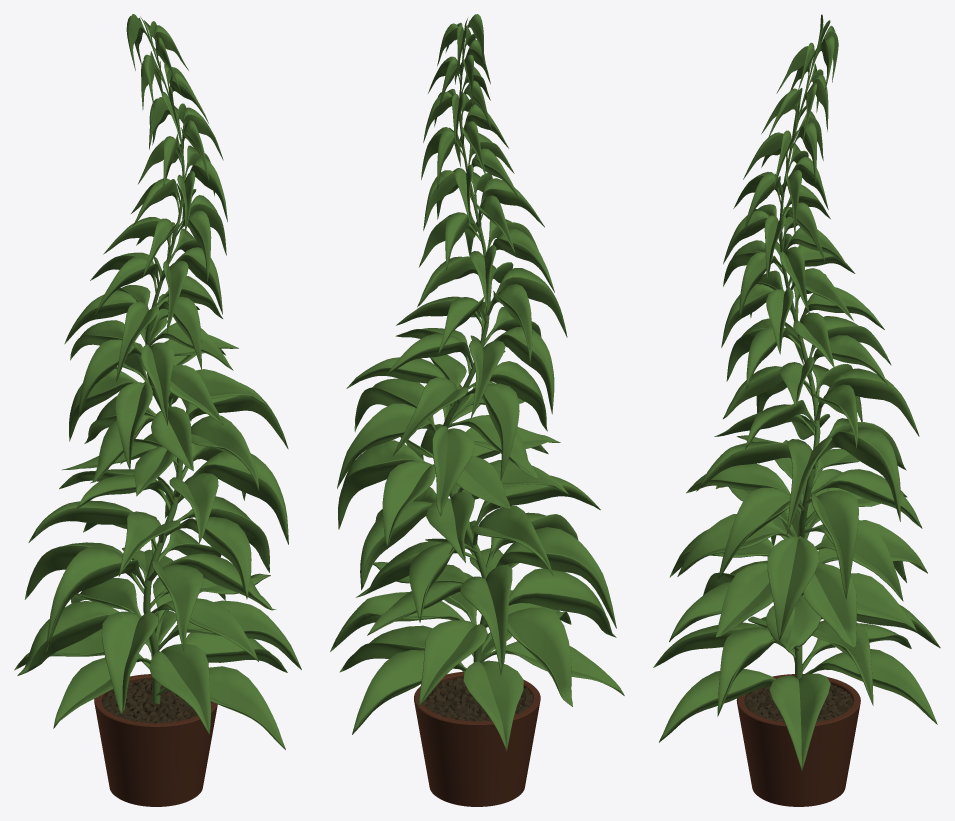
File: office_plant_1.glb
The picture shows the model from 3 angles, left to right: view 1: azimuth 30°, elevation 25°; view 2: azimuth 150°, elevation 25°; view 3: azimuth 270°, elevation 25°; orthographic projection. The views are drawn at different scales.
Visible parts, largest first — view 1: Office Plant_0; view 2: Office Plant_0; view 3: Office Plant_0.
Part boxes in pixels (box(x1,y1,x2,y2)): Office Plant_0: box(14, 14, 301, 806); Office Plant_0: box(330, 14, 624, 806); Office Plant_0: box(653, 14, 940, 806).
Size of the model in its own units: 0.7924 by 2.27 by 0.7687.
